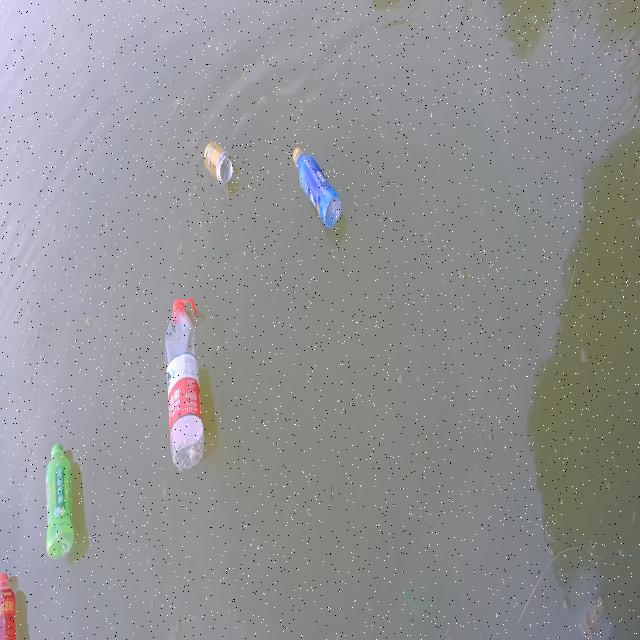Bottle: (161, 288, 210, 473), (290, 143, 344, 230), (43, 440, 76, 566)
Can: (200, 138, 239, 190)
